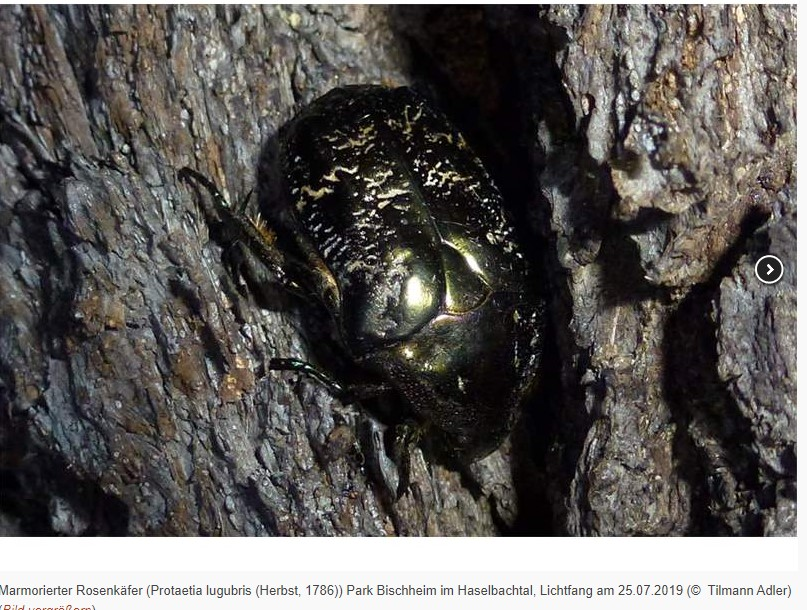Protaetia_lugubris: (179, 77, 544, 506)
